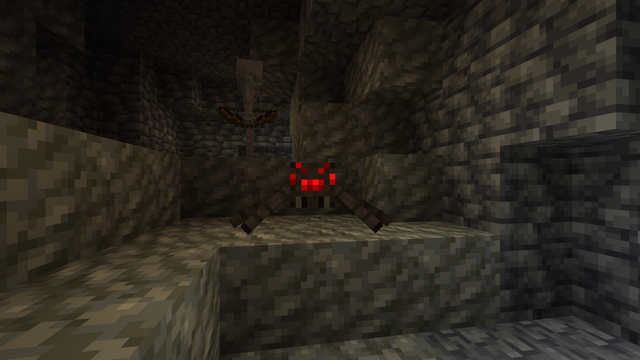araignees: (255, 153, 379, 237)
squelettes: (232, 57, 264, 139)
